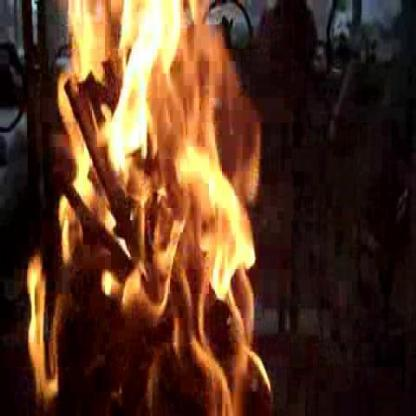fire: (8, 0, 278, 410)
